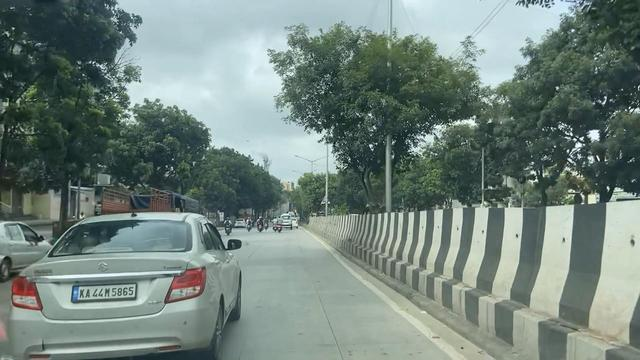LMV: (8, 210, 244, 360)
